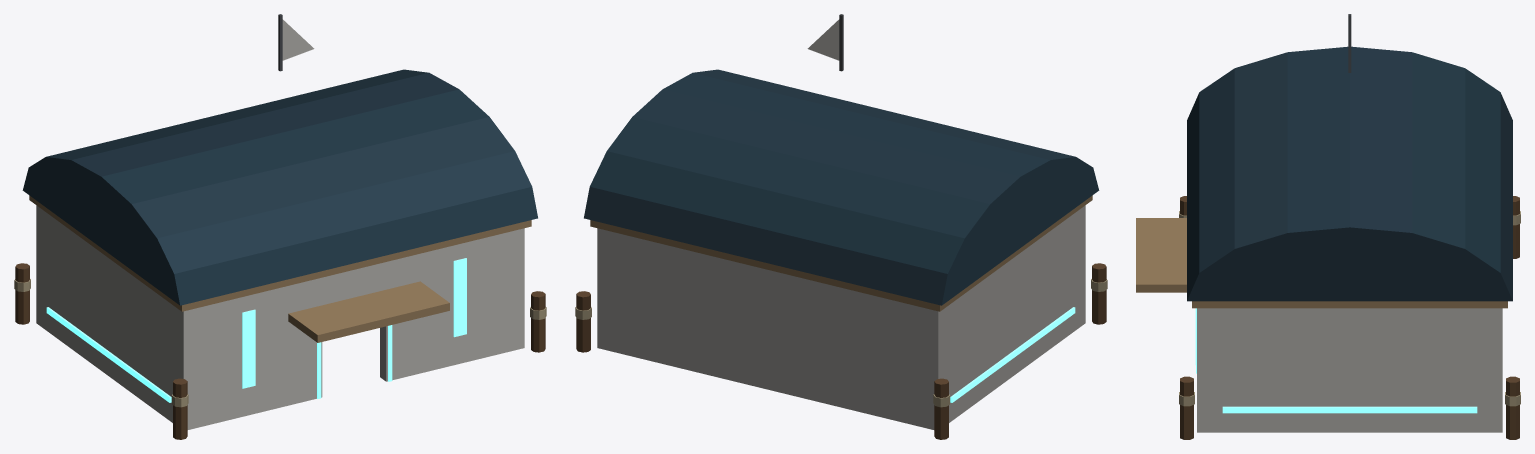
File: shaddai_dist_ocean_b4_v01.glb
3 views of the same model, side by side, from view 1: azimuth 30°, elevation 25°; view 2: azimuth 150°, elevation 25°; view 3: azimuth 270°, elevation 25° (orthographic). The views are drawn at different scales.
Parts seen in each view (by area): view 1: shaddai_dist_ocean_b4; view 2: shaddai_dist_ocean_b4; view 3: shaddai_dist_ocean_b4.
Part boxes in pixels (box(x1,y1,x2,y2)): shaddai_dist_ocean_b4: box(14, 14, 546, 439); shaddai_dist_ocean_b4: box(575, 14, 1107, 439); shaddai_dist_ocean_b4: box(1136, 14, 1520, 439).
Bounding box in the file's own units: 17.43 × 14.38 × 15.11.
